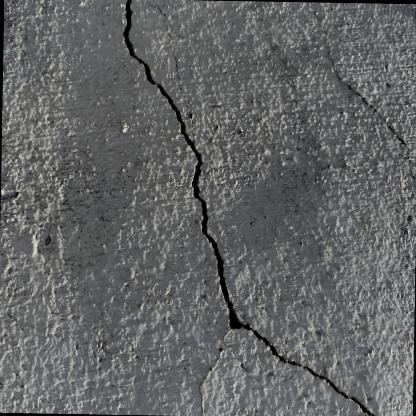crack: (117, 0, 385, 416)
